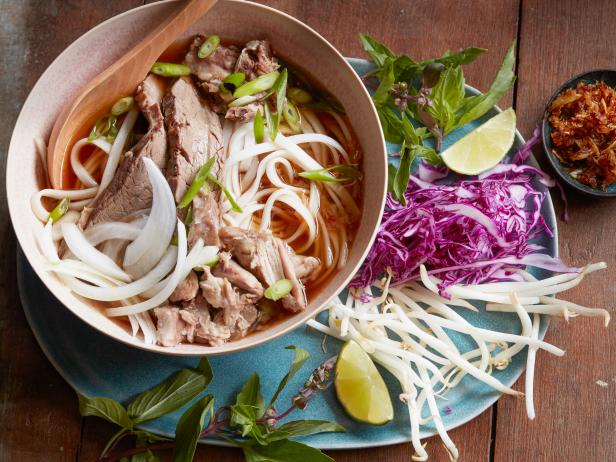beef: (168, 84, 227, 219)
onion: (74, 225, 177, 305)
